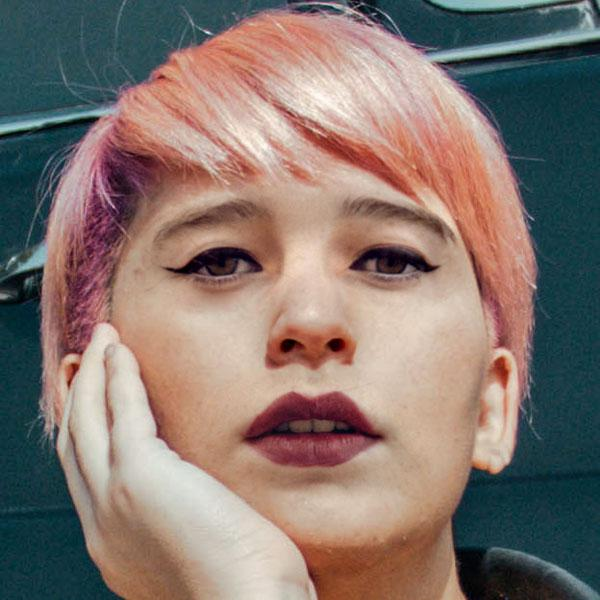Eyes: (164, 232, 266, 294), (338, 228, 438, 290)
